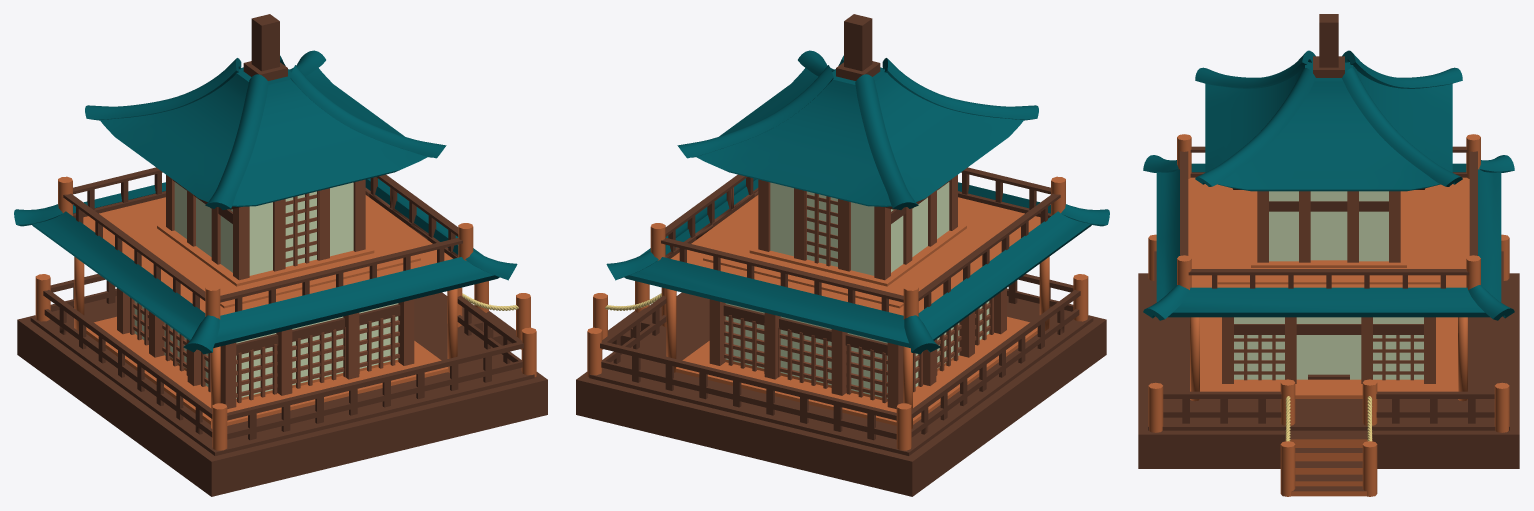
Rendered from temple_01.fbx.
3 views of the same model, side by side, from view 1: azimuth 30°, elevation 25°; view 2: azimuth 150°, elevation 25°; view 3: azimuth 270°, elevation 25° (orthographic).
Visible parts, largest first — view 1: Japanese_Shrine_Cylinder.006; view 2: Japanese_Shrine_Cylinder.006; view 3: Japanese_Shrine_Cylinder.006, Japanese_Shrine_Cylinder.008, Japanese_Shrine_Cylinder.009, Japanese_Shrine_Cylinder.004, Japanese_Shrine_Cylinder.005.
Part boxes in pixels (<box>): Japanese_Shrine_Cylinder.006: <box>14,14,547,496</box>; Japanese_Shrine_Cylinder.006: <box>576,14,1109,496</box>; Japanese_Shrine_Cylinder.006: <box>1138,14,1519,496</box>; Japanese_Shrine_Cylinder.008: <box>1324,335,1349,374</box>; Japanese_Shrine_Cylinder.009: <box>1329,211,1347,260</box>; Japanese_Shrine_Cylinder.004: <box>1310,211,1328,260</box>; Japanese_Shrine_Cylinder.005: <box>1308,335,1324,374</box>.
Bounding box in the file's own units: 2434 × 2097 × 2000.
